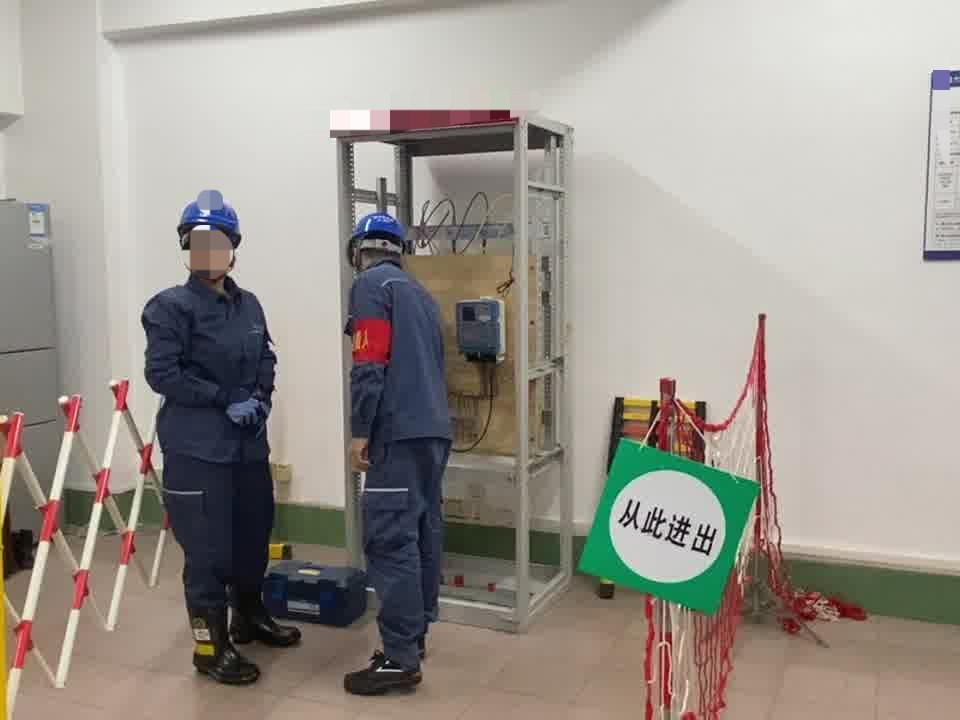halt: (177, 198, 245, 283), (349, 212, 410, 271)
